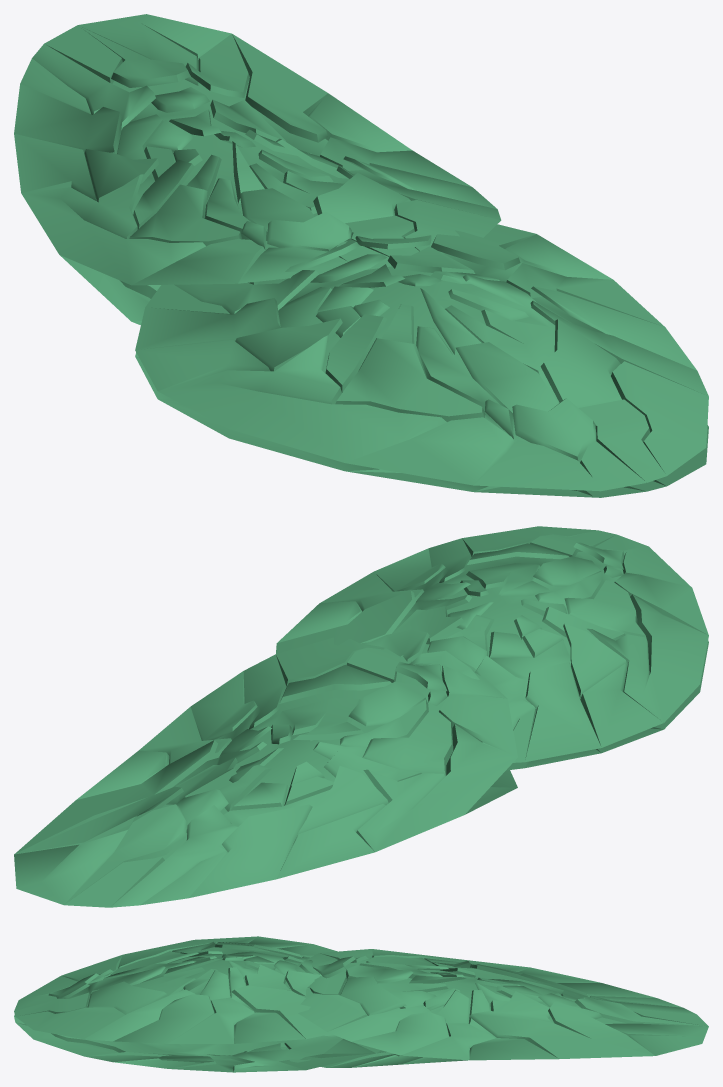
File: etc_dargonship_weapon_eff_sword_eff2.glb
3 views of the same model, one above another, from view 1: azimuth 30°, elevation 25°; view 2: azimuth 150°, elevation 25°; view 3: azimuth 270°, elevation 25° (orthographic). The views are drawn at different scales.
Bounding box in the file's own units: 1.27 × 0.4231 × 3.05.
